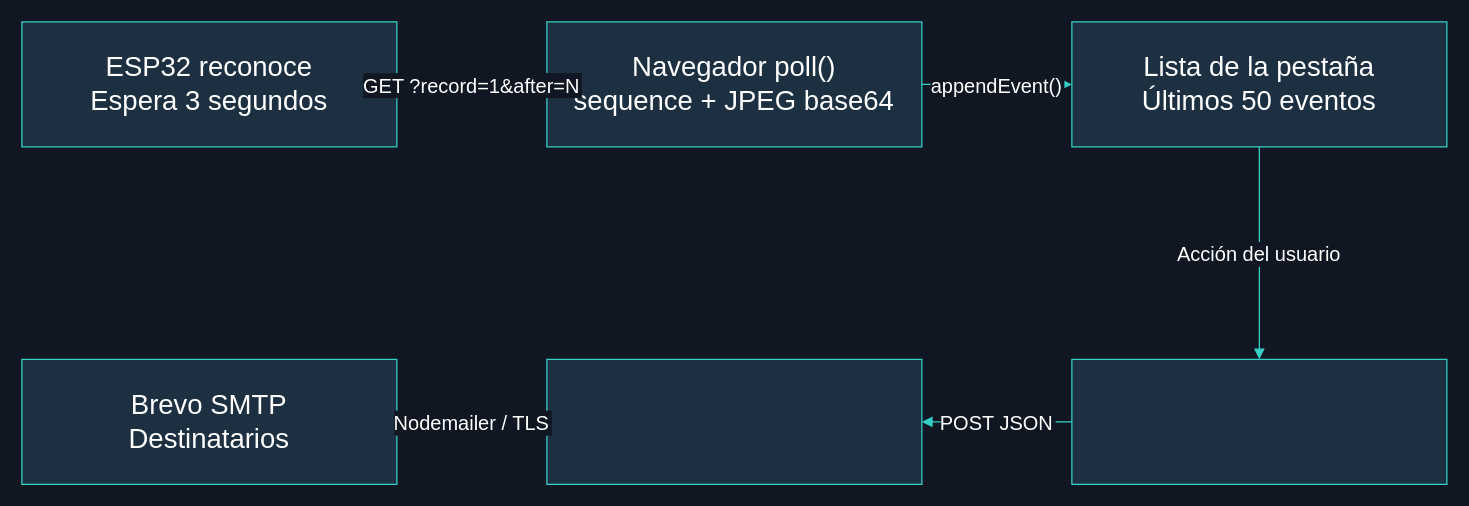
The diagram is 1469 pixels wide and 506 high, and some of its shapes have lost their labels. The shapes that lost their labels are listed below. From the top down, each one's centre as x and y in pixels, then its label:
At [734,421]: "Node.js /api/report Valida y crea HTML + CID".
At [1259,421]: "Enviar reporte Snapshot + correos".
